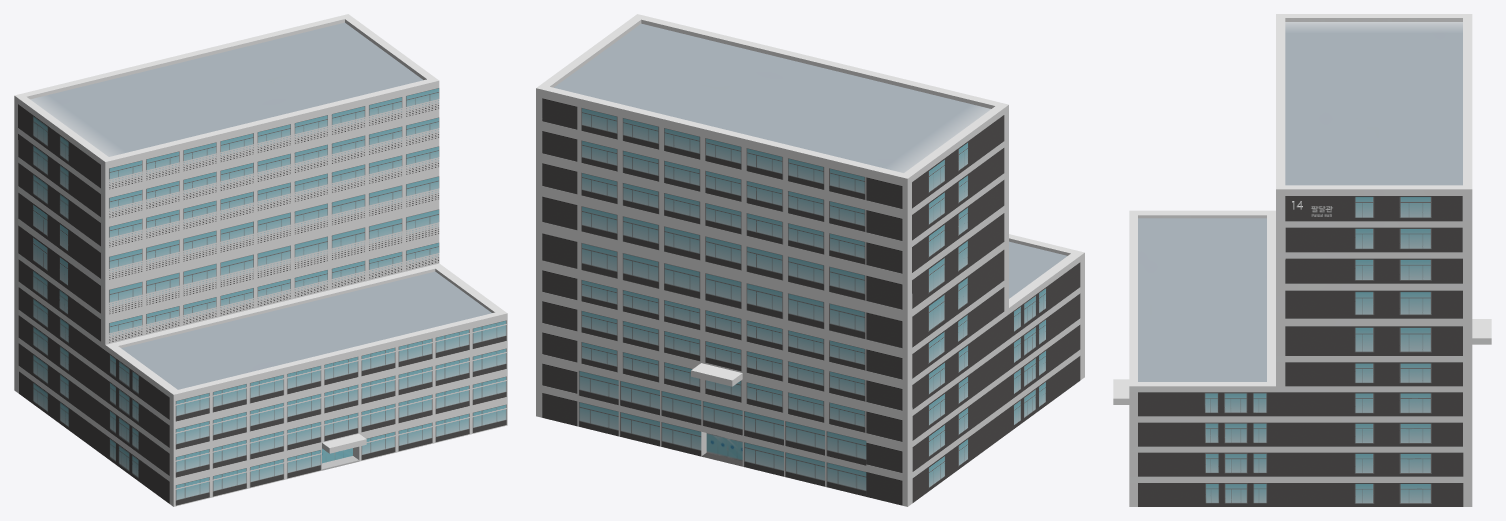
The model's file is building_paldal.fbx.
The picture shows the model from 3 angles, left to right: view 1: azimuth 30°, elevation 25°; view 2: azimuth 150°, elevation 25°; view 3: azimuth 270°, elevation 25°; orthographic projection. The views are drawn at different scales.
Parts seen in each view (by area): view 1: building_paldal; view 2: building_paldal; view 3: building_paldal.
Part boxes in pixels (x1,y1,x2,y2): building_paldal: (14,14,507,506); building_paldal: (536,14,1084,506); building_paldal: (1113,14,1491,506).
Size of the model in its own units: 3.05 by 2.56 by 2.77.
1 material, 1 textured.
